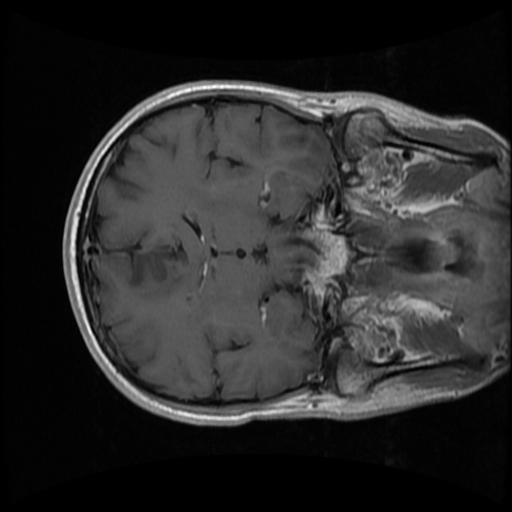glioma: (128, 249, 177, 287)
